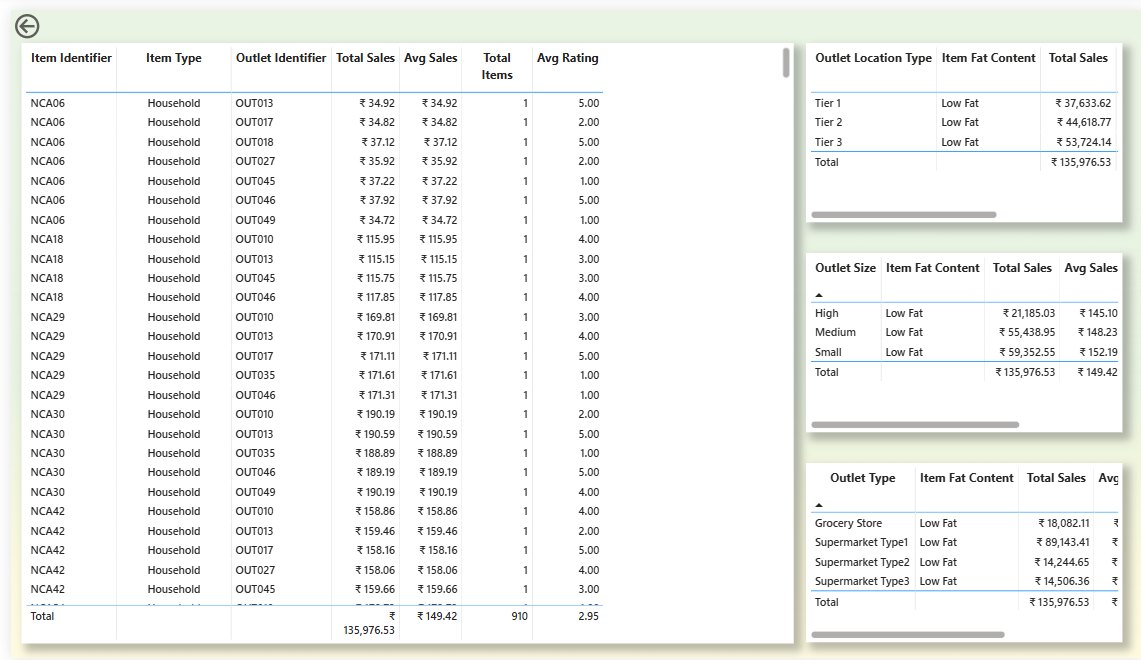

This screenshot's page, from the dashboard's own definition file:
{"tool":"powerbi","page":{"name":"Sales Details","canvas":[1400,800],"ordinal":3},"visuals":[{"type":"actionButton","box":[0,0,100,40],"z":0},{"type":"tableEx","fields":{"Values":["Blinkit.Item Identifier","Blinkit.Item Type","Blinkit.Outlet Identifier","_Measure.Avg Sales"]},"box":[12.8,39.9,953.5,741.5],"z":1000},{"type":"tableEx","fields":{"Values":["Blinkit.Outlet Location Type","Blinkit.Item Fat Content","_Measure.Avg Sales"]},"box":[982.2,39.9,390.7,221.6],"z":2000},{"type":"tableEx","fields":{"Values":["Blinkit.Outlet Size","Blinkit.Item Fat Content","_Measure.Avg Sales"]},"box":[982.2,299.8,390.7,221.6],"z":3000},{"type":"tableEx","fields":{"Values":["Blinkit.Outlet Type","Blinkit.Item Fat Content","_Measure.Avg Sales"]},"box":[982.2,559.7,390.7,221.6],"z":4000}]}

Visuals, with their boxes in screenshot pixels (x1, y1, x2, y2), scaled from the page's 1400x800 canvas onto the 1141x660 screenshot:
actionButton: {"left": 0, "top": 0, "right": 82, "bottom": 33}
tableEx - Blinkit.Item Identifier x Blinkit.Item Type: {"left": 10, "top": 33, "right": 788, "bottom": 645}
tableEx - Blinkit.Outlet Location Type x Blinkit.Item Fat Content: {"left": 800, "top": 33, "right": 1119, "bottom": 216}
tableEx - Blinkit.Outlet Size x Blinkit.Item Fat Content: {"left": 800, "top": 247, "right": 1119, "bottom": 430}
tableEx - Blinkit.Outlet Type x Blinkit.Item Fat Content: {"left": 800, "top": 462, "right": 1119, "bottom": 645}
